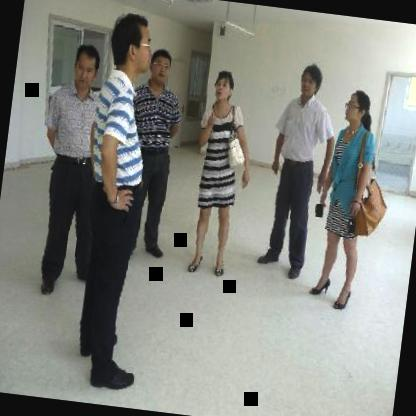head: (105, 6, 156, 84), (68, 38, 105, 95), (142, 48, 176, 92), (342, 86, 372, 131), (296, 62, 324, 103), (212, 66, 238, 109)
